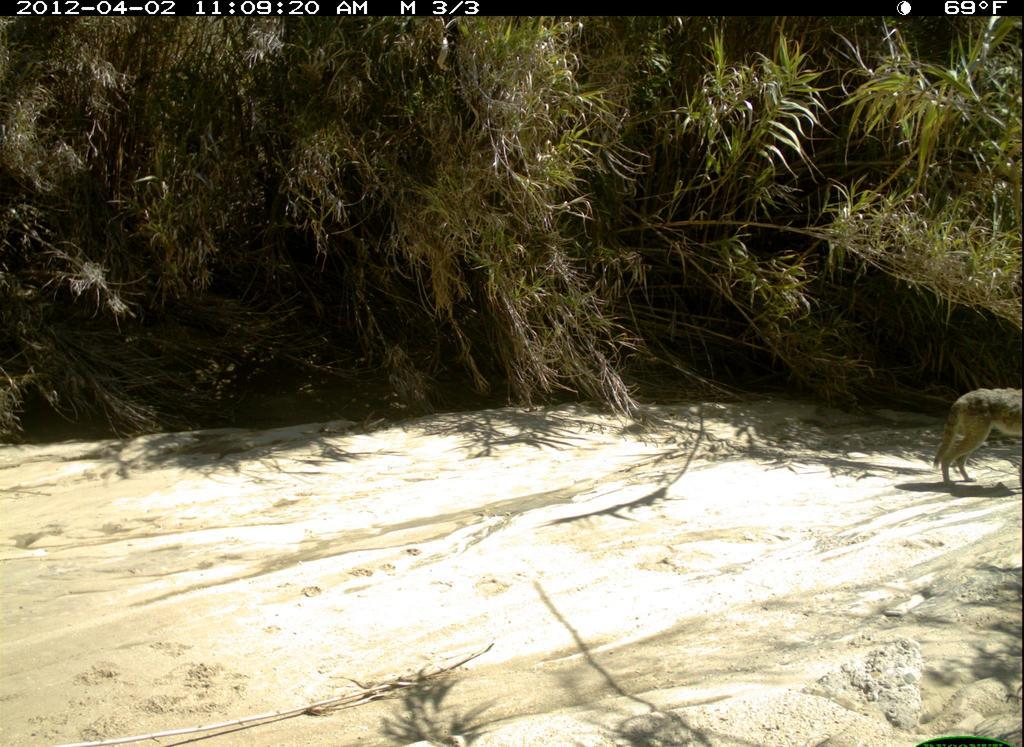coyote: (917, 368, 1023, 483)
